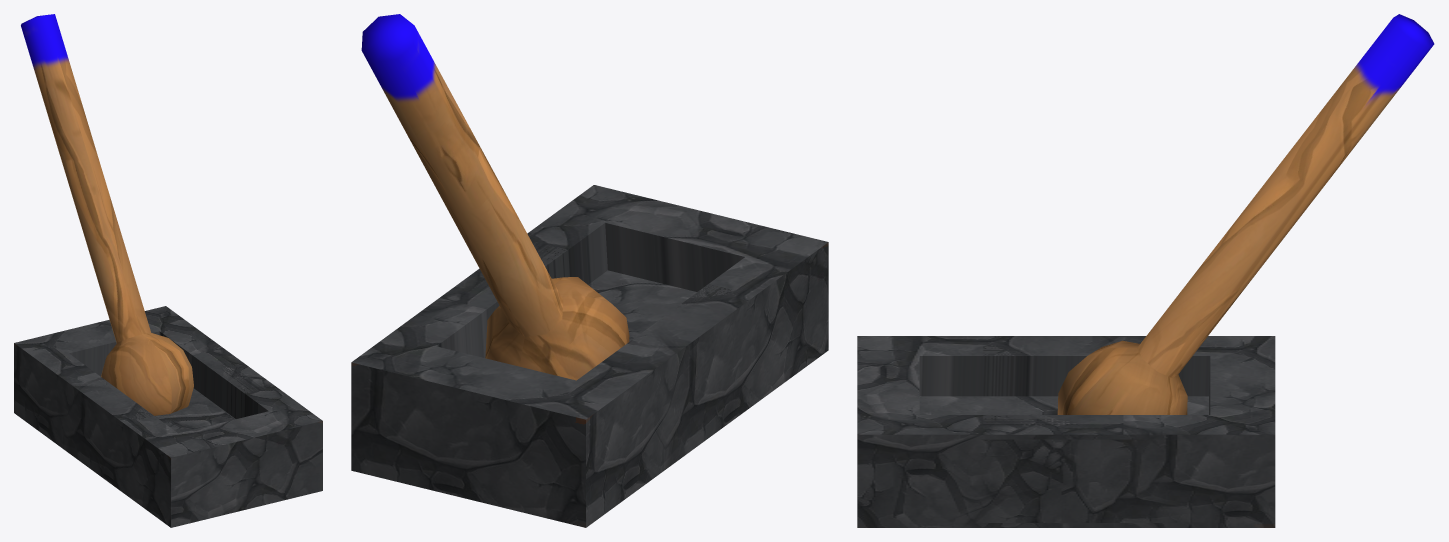
Rendered from Schalter 1.fbx.
3 views of the same model, side by side, from view 1: azimuth 30°, elevation 25°; view 2: azimuth 150°, elevation 25°; view 3: azimuth 270°, elevation 25° (orthographic). The views are drawn at different scales.
Visible parts, largest first — view 1: Cube, Sphere; view 2: Cube, Sphere; view 3: Cube, Sphere.
Part boxes in pixels (x1,y1,x2,y2): Cube: [14, 306, 322, 527]; Sphere: [21, 14, 193, 415]; Cube: [351, 185, 828, 527]; Sphere: [361, 14, 629, 380]; Cube: [857, 336, 1275, 527]; Sphere: [1057, 14, 1434, 414].
Bounding box in the file's own units: 108 × 236 × 267.
